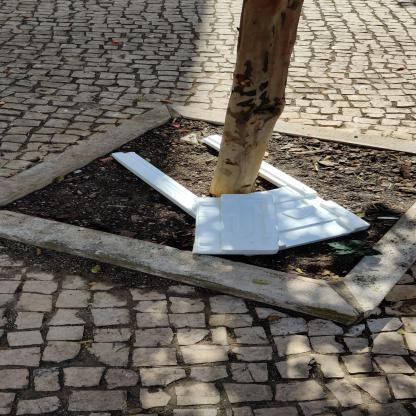kopuk: (113, 136, 372, 256), (193, 194, 281, 256)
